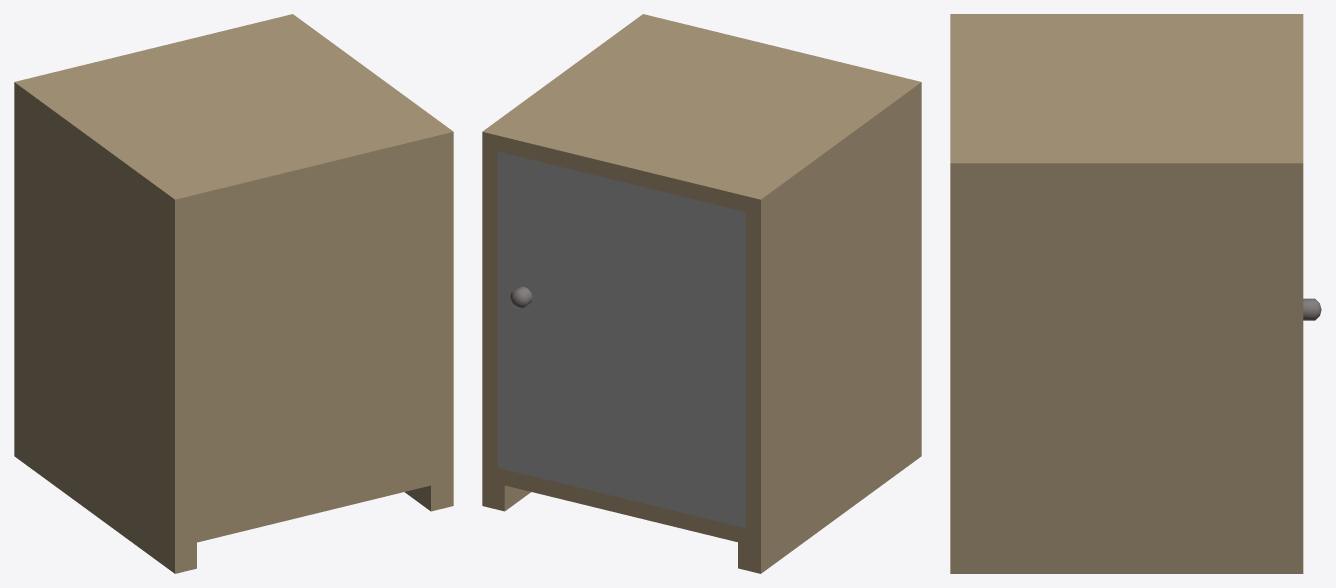
Rendered from SM_Locker_02.FBX.
3 renders of one model, left to right at view 1: azimuth 30°, elevation 25°; view 2: azimuth 150°, elevation 25°; view 3: azimuth 270°, elevation 25°, orthographic. The views are drawn at different scales.
Visible parts, largest first — view 1: SM_Locker_02; view 2: SM_Locker_02; view 3: SM_Locker_02.
Boxes of the visible parts, x1,y1,x2,y2 form: SM_Locker_02: [14, 14, 453, 573]; SM_Locker_02: [482, 14, 921, 573]; SM_Locker_02: [950, 14, 1321, 573].
Size of the model in its own units: 59.67 by 62.74 by 76.59.
